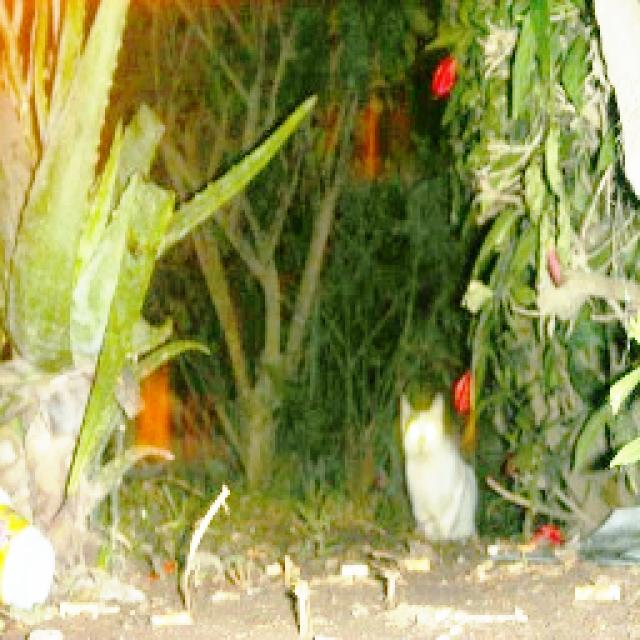cat: (368, 355, 510, 570)
